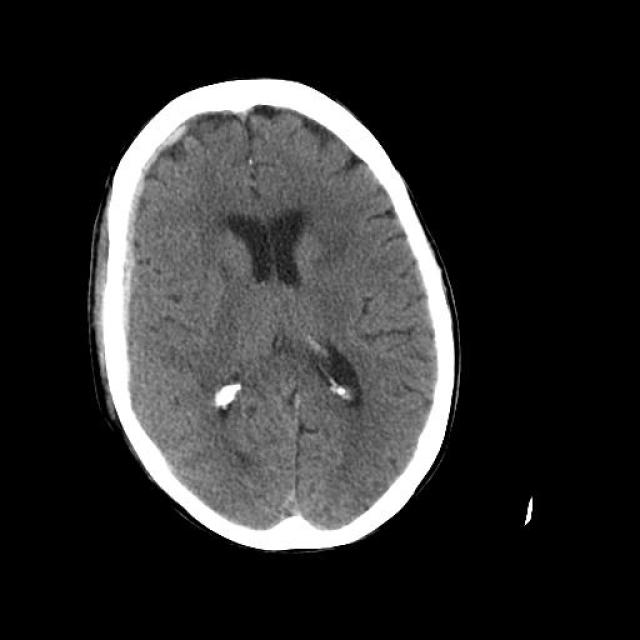Subdural: (98, 121, 196, 372)
